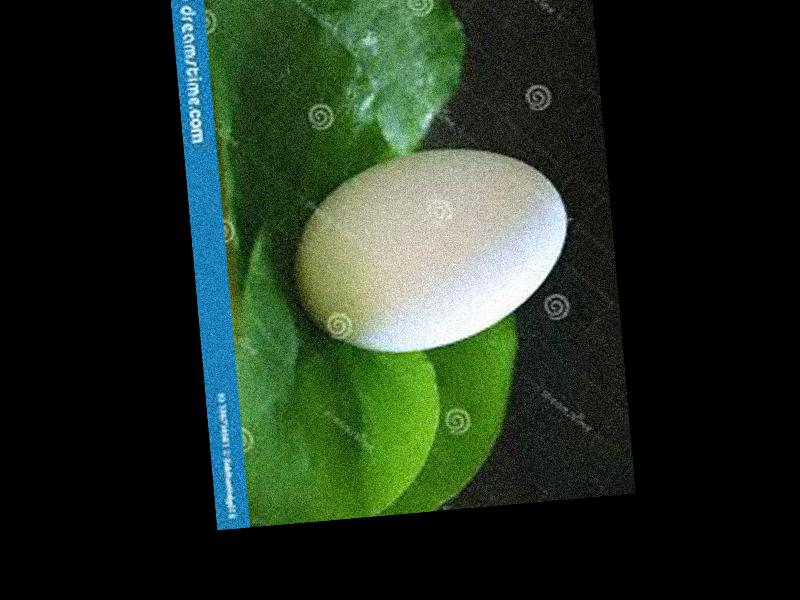Eggs: (286, 138, 577, 361)
